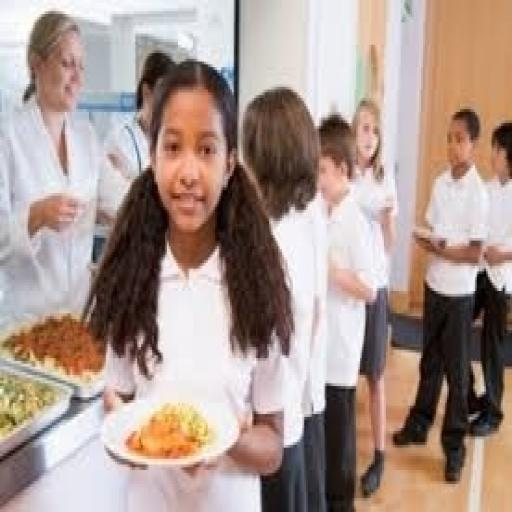eating: (82, 56, 296, 509)
